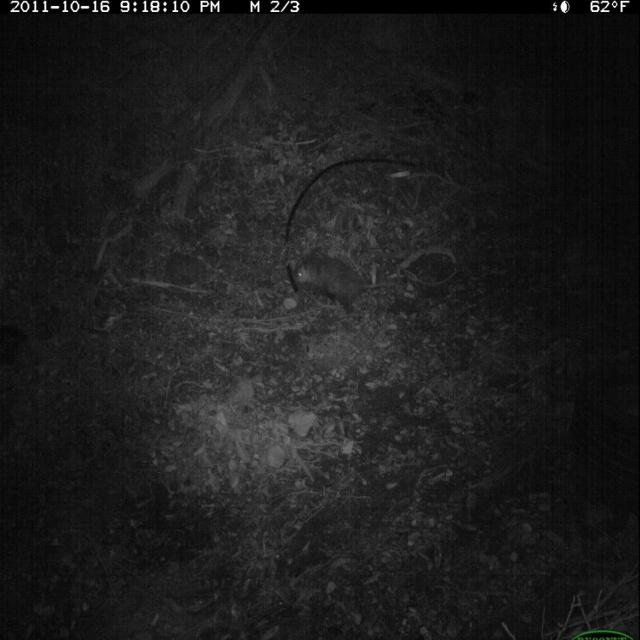opossum: (293, 247, 407, 323)
